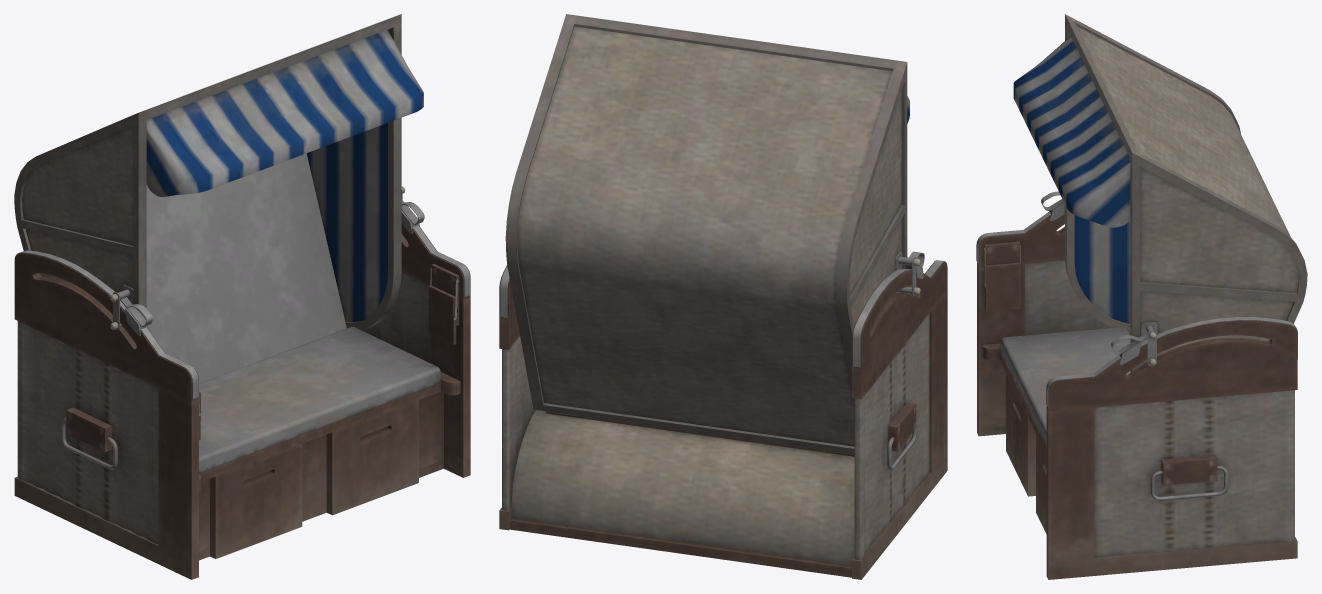
The model's file is ItemSpot.fbx.
The picture shows the model from 3 angles, left to right: view 1: azimuth 30°, elevation 25°; view 2: azimuth 150°, elevation 25°; view 3: azimuth 270°, elevation 25°; orthographic projection. The views are drawn at different scales.
Visible parts, largest first — view 1: ItemBox_BeachChair; view 2: ItemBox_BeachChair; view 3: ItemBox_BeachChair.
Boxes of the visible parts, x1,y1,x2,y2 form: ItemBox_BeachChair: [14, 14, 470, 579]; ItemBox_BeachChair: [499, 14, 947, 579]; ItemBox_BeachChair: [976, 14, 1307, 579].
Bounding box in the file's own units: 1.96 × 2.25 × 1.62.
Materials: 1 (1 with a texture image).
